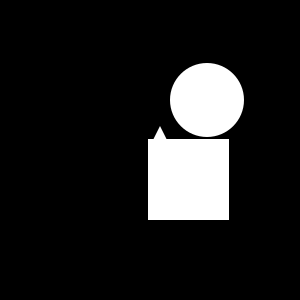circle: (148, 139, 229, 220)
rectangle: (170, 63, 244, 137)
triangle: (148, 126, 172, 150)
